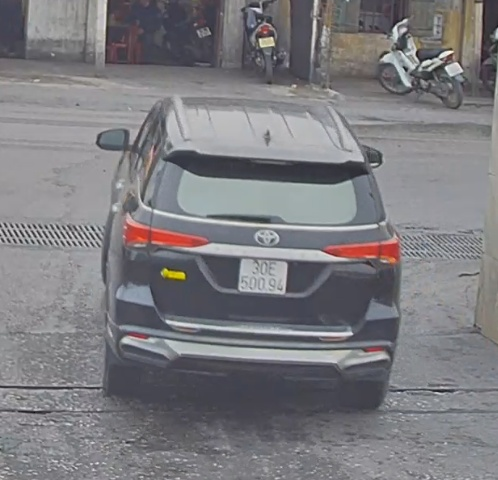vehicle plate: (230, 247, 289, 298)
